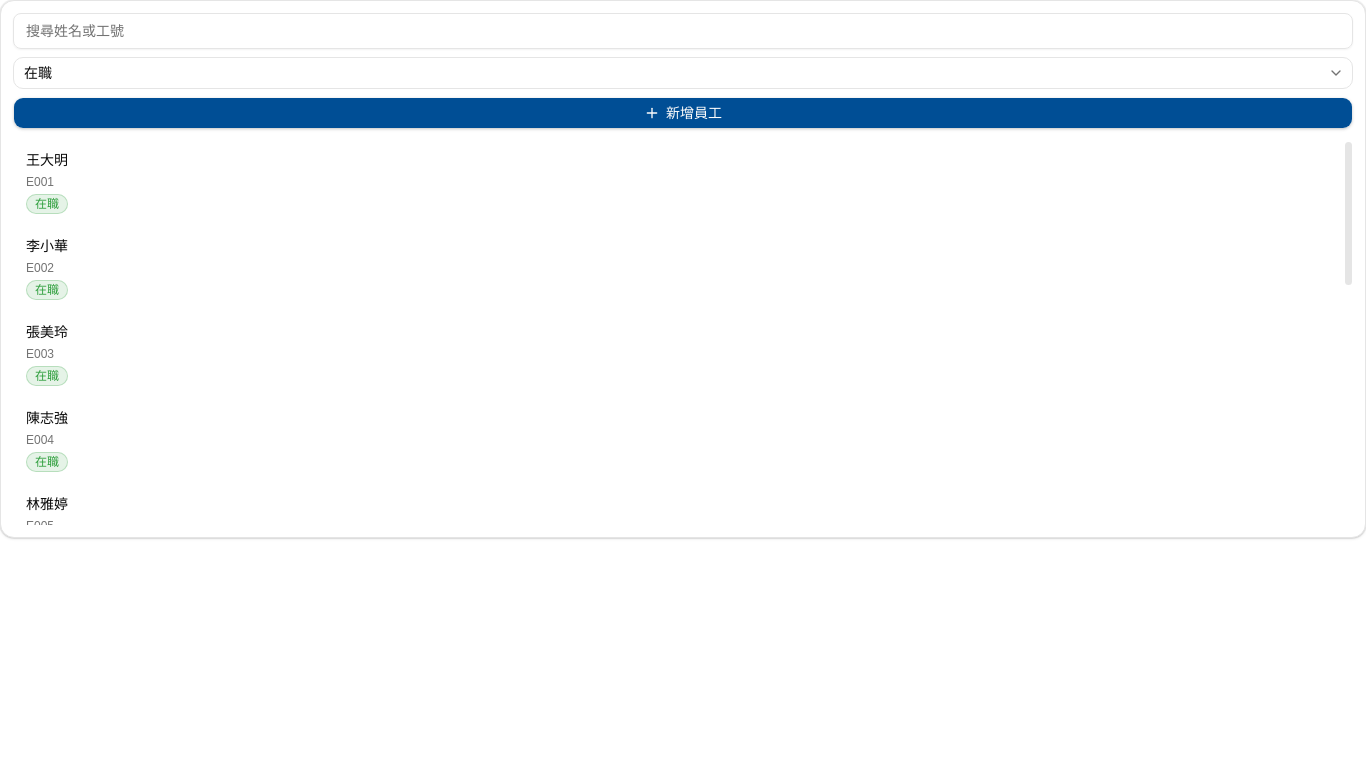
Test case: EmployeeList 員工清單 › 輸入工號可篩選對應員工
Step 1. Type "E002" into the field with placeholder "搜尋姓名或工號" → (683, 31), box [13,13,1353,49]
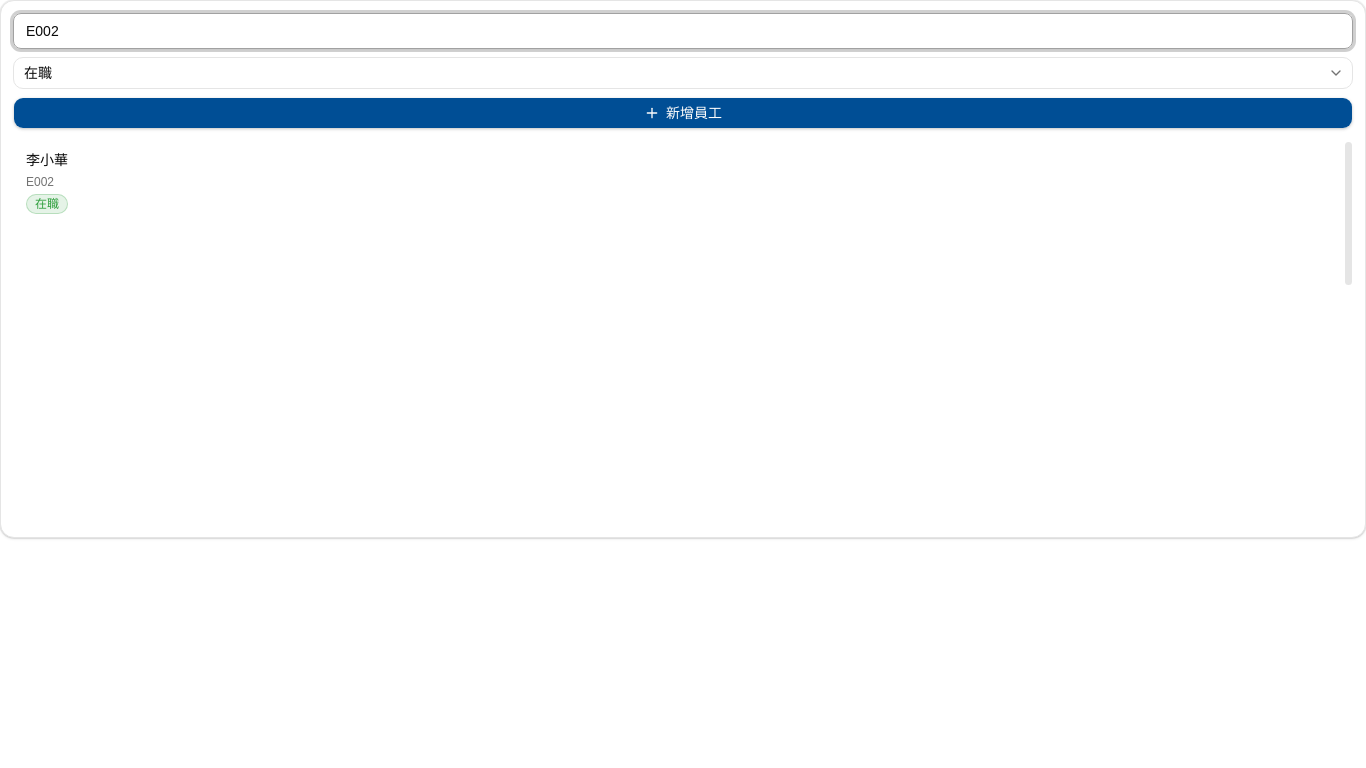
Expected: the text "李小華" is shown, [26,150,68,170]
Now the button "王大明" is gone
